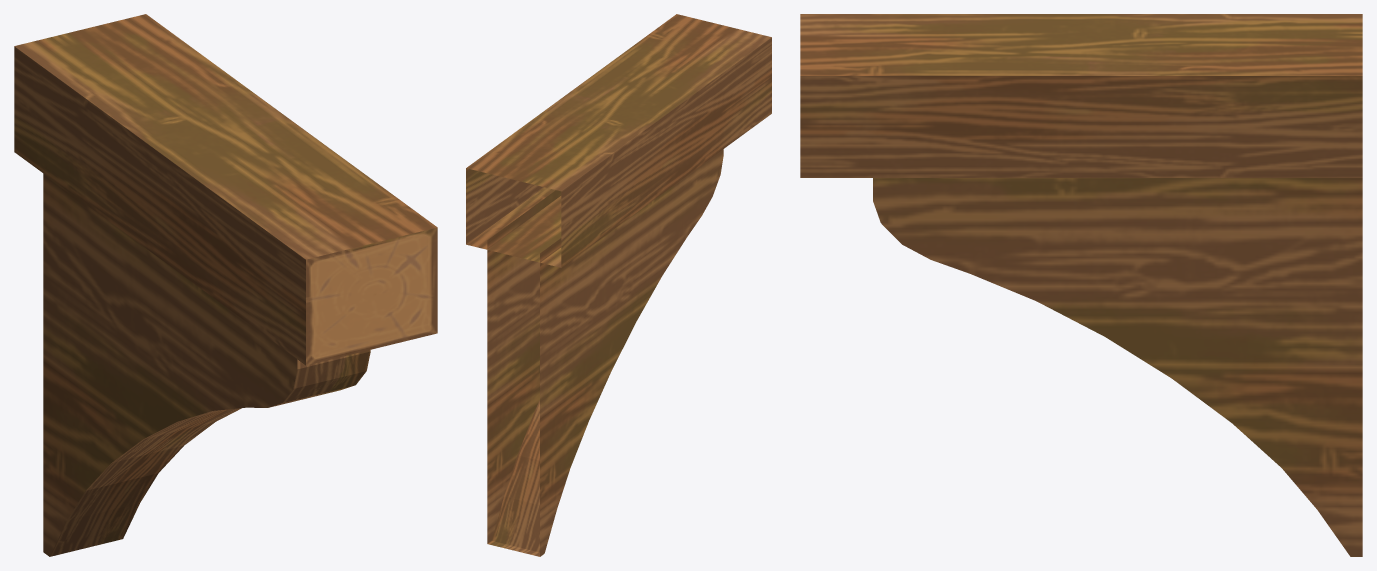
The model's file is Roof_Support2.gltf.
The picture shows the model from 3 angles, left to right: view 1: azimuth 30°, elevation 25°; view 2: azimuth 150°, elevation 25°; view 3: azimuth 270°, elevation 25°; orthographic projection. The views are drawn at different scales.
Parts seen in each view (by area): view 1: Roof_Support2; view 2: Roof_Support2; view 3: Roof_Support2.
Boxes of the visible parts, x1,y1,x2,y2 form: Roof_Support2: [14, 14, 437, 556]; Roof_Support2: [466, 14, 771, 556]; Roof_Support2: [800, 14, 1362, 556].
Size of the model in its own units: 0.1997 by 0.7429 by 0.7651.
Materials: 1 (1 with a texture image).
